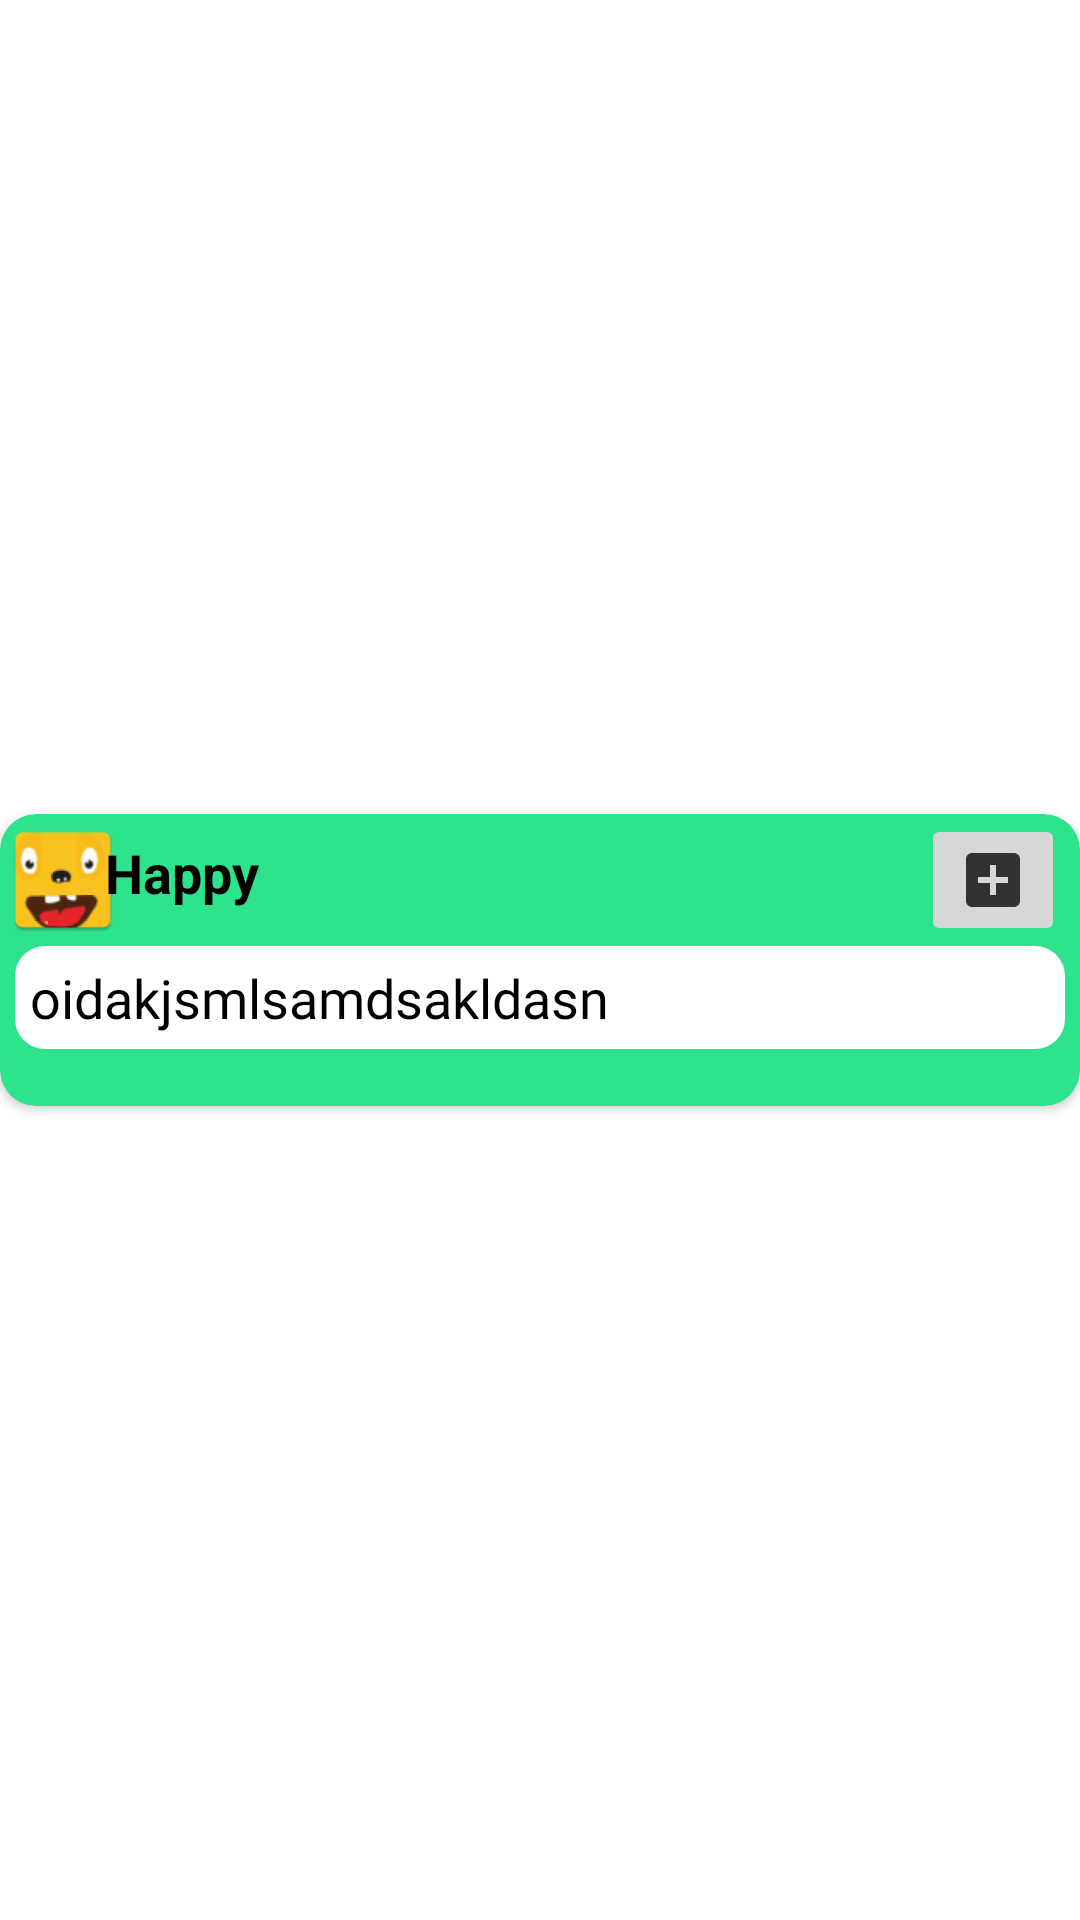

Icon bounding boxes for this 1080w x 1920h phone screenshot, format (x1, y1, x2, y2):
add: (933, 832, 1053, 928)
